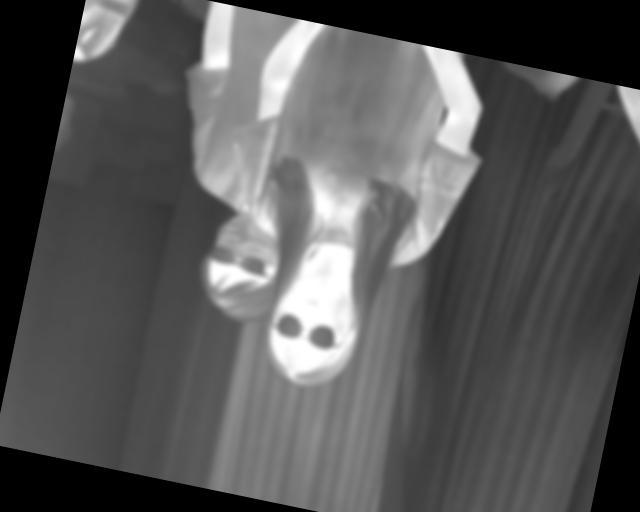face: (261, 264, 367, 394), (192, 203, 288, 326)
